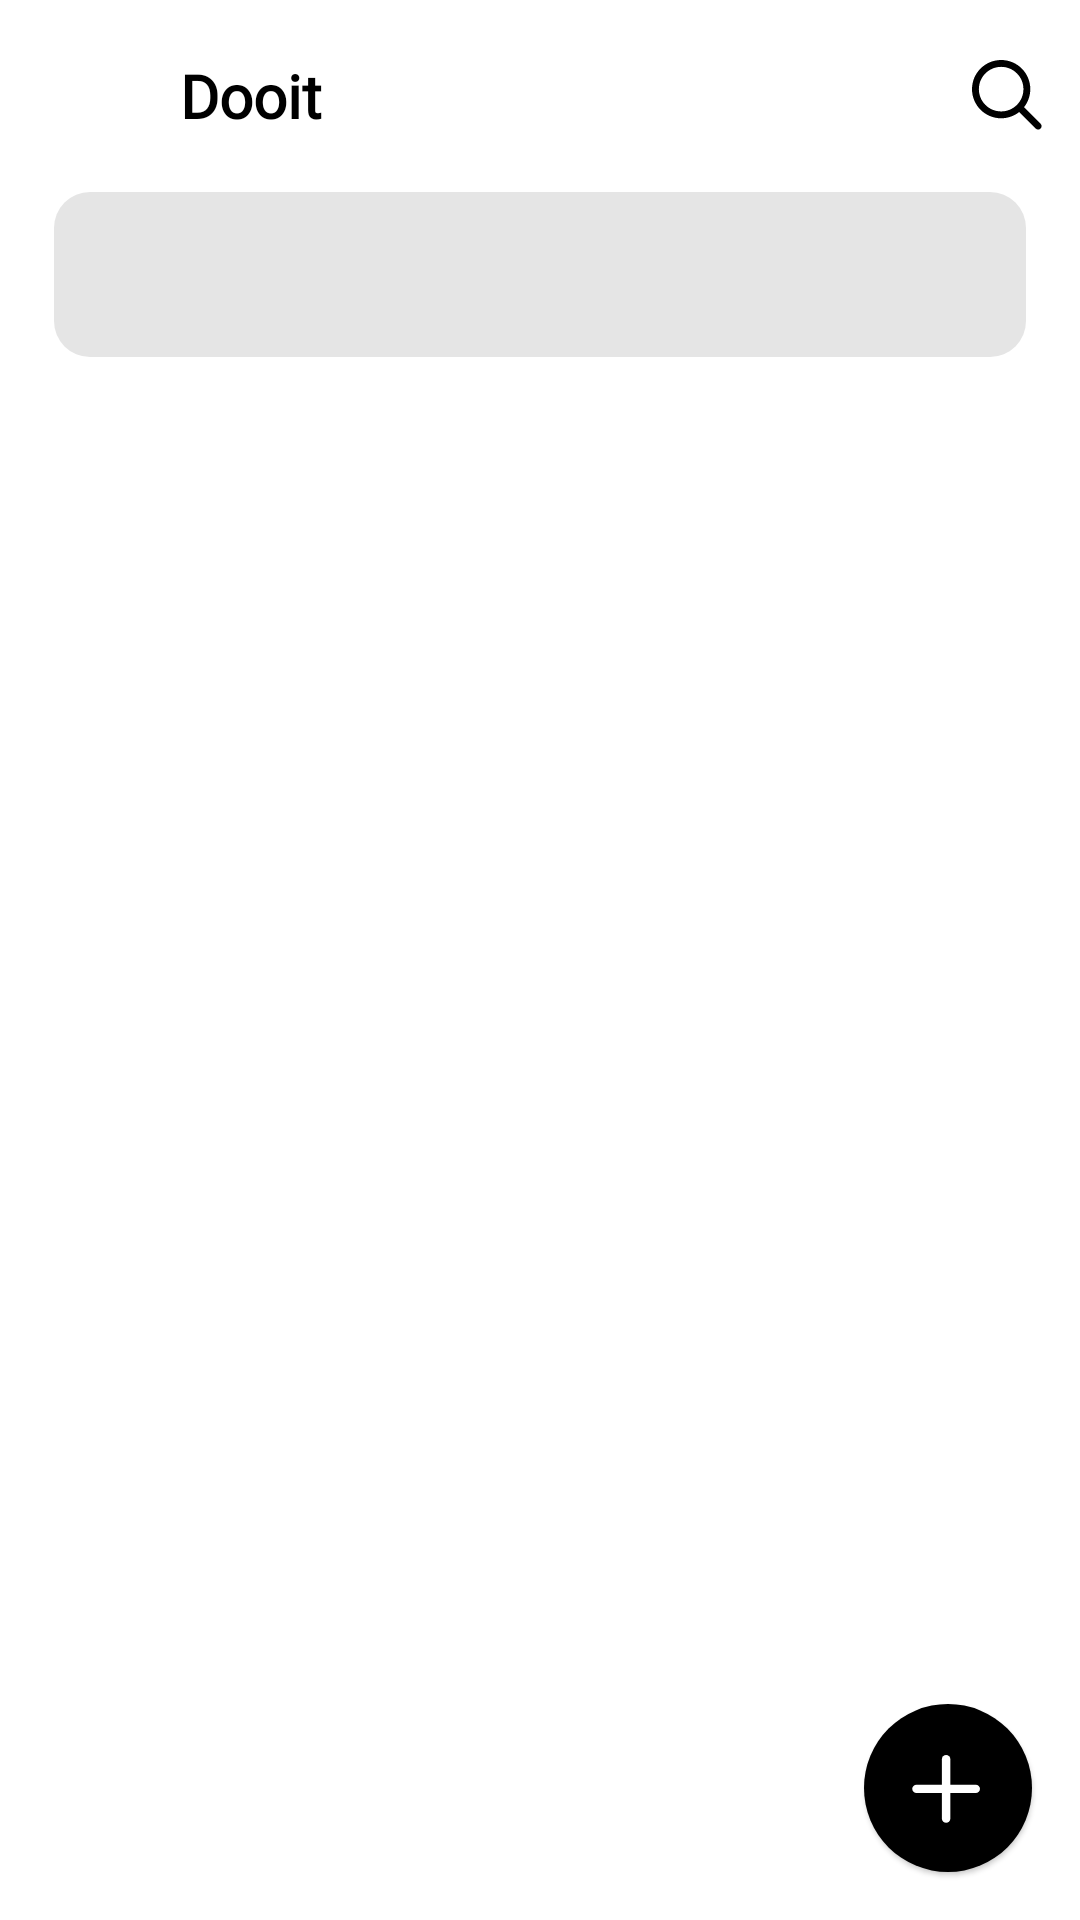

Screen size 1080 × 1920. Icon name, then its box in pixels as (x1, y1, x2, y2):
add: (864, 1704, 1032, 1872)
search: (972, 60, 1042, 130)
